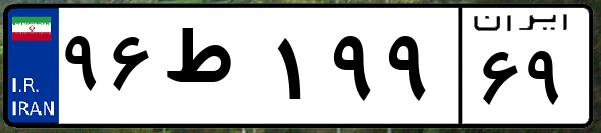1: (270, 28, 330, 110)
6: (475, 38, 525, 113), (110, 28, 158, 98)
9: (385, 28, 445, 110), (330, 28, 385, 110), (57, 26, 110, 100), (525, 38, 570, 115)
ط: (158, 20, 270, 120)
